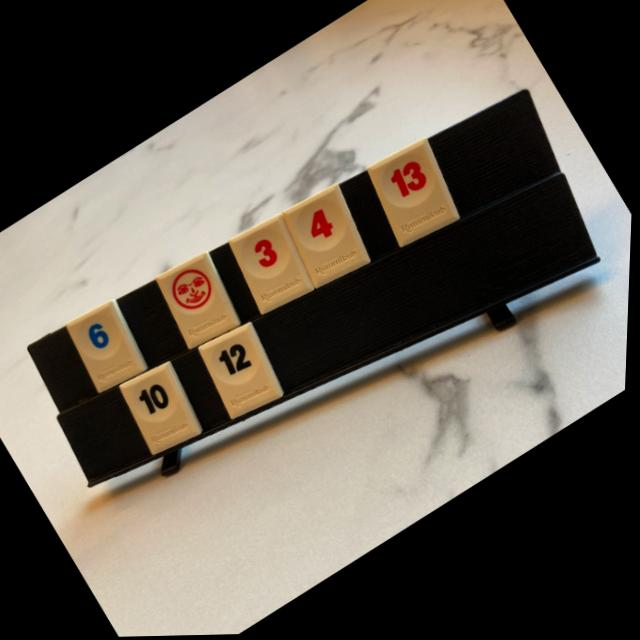black_10: (122, 362, 205, 455)
black_12: (200, 323, 286, 419)
blue_6: (68, 300, 151, 392)
joker: (157, 252, 243, 349)
red_13: (369, 140, 461, 248)
red_3: (231, 214, 316, 315)
red_4: (284, 185, 372, 289)
